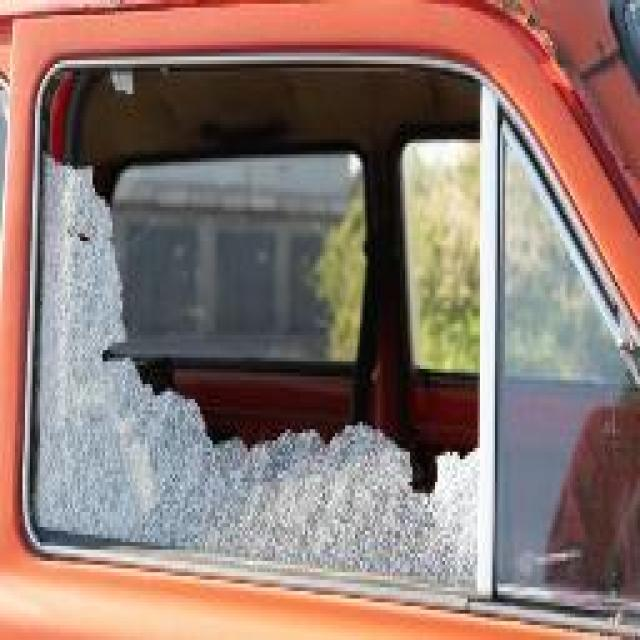Door: (18, 49, 495, 625)
